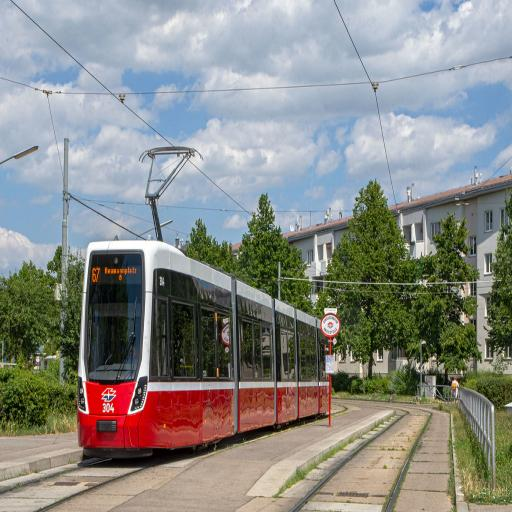Flexity: (76, 237, 332, 460)
